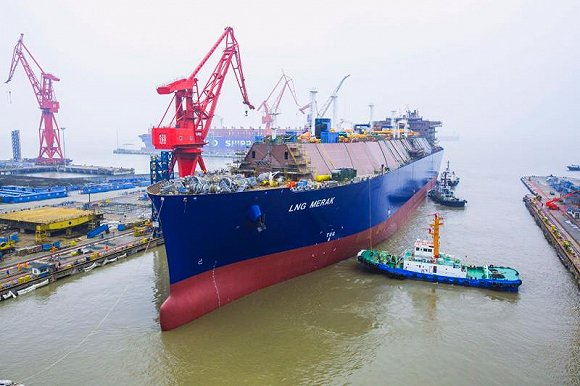Cargoship: (139, 87, 442, 328)
otherboat: (349, 213, 526, 297), (419, 170, 467, 210), (439, 161, 461, 185)
